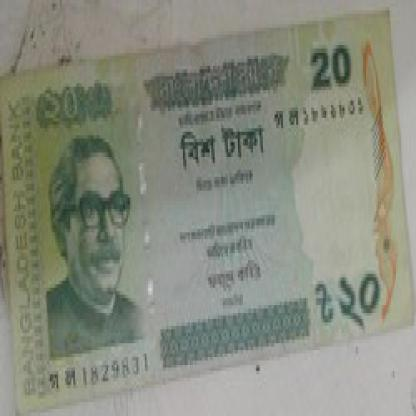Twenty: (168, 121, 280, 170), (311, 278, 386, 336), (36, 87, 116, 128), (305, 42, 356, 94)
